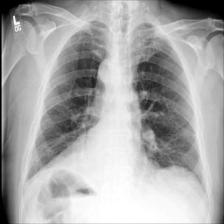normal: (20, 20, 211, 190)
